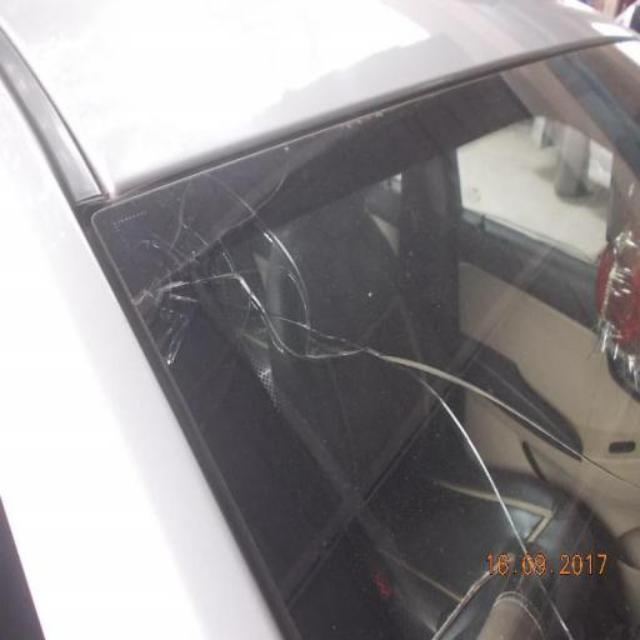glass shatter: (184, 166, 640, 640), (112, 227, 195, 369)
